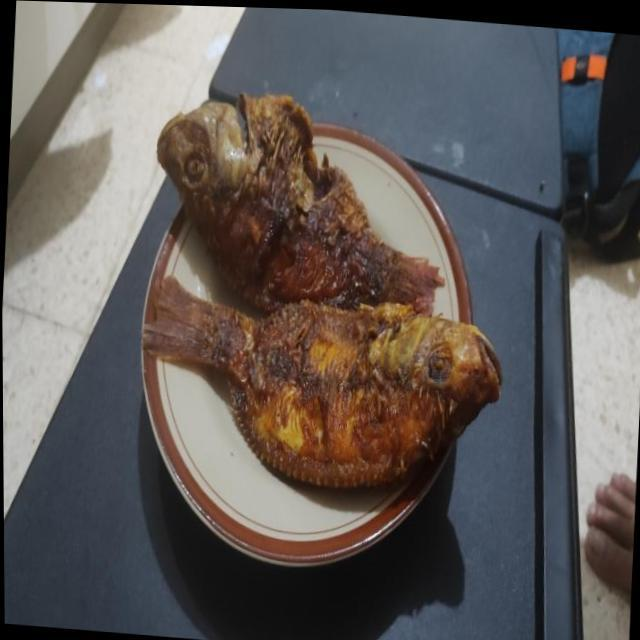ikan_mujair: (143, 276, 502, 488), (158, 95, 444, 316)
